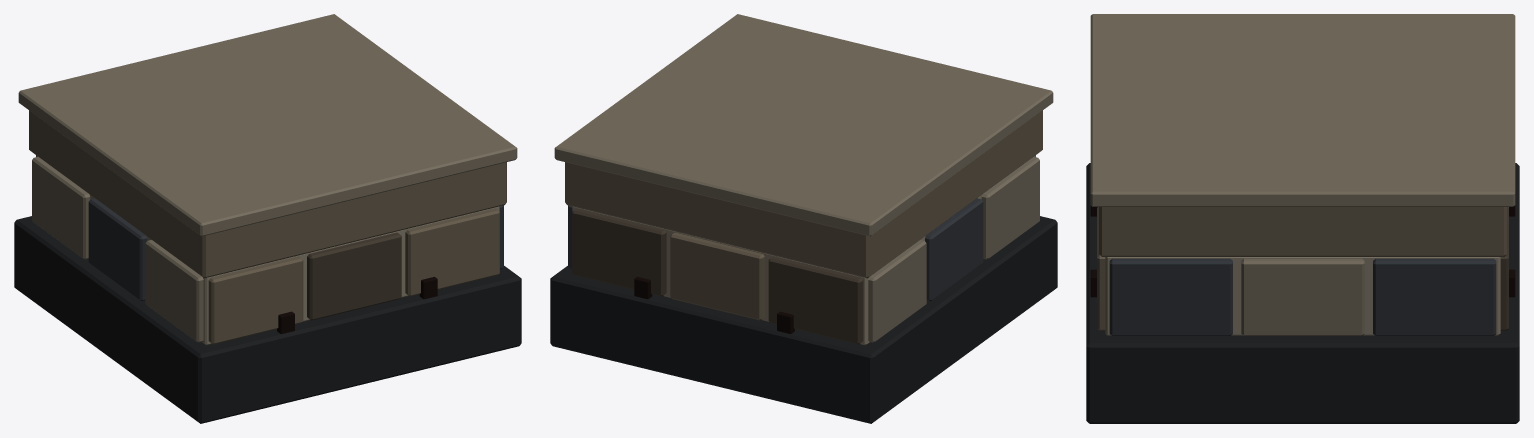
File: mod_stepped_plinth_base.glb
3 views of the same model, side by side, from view 1: azimuth 30°, elevation 25°; view 2: azimuth 150°, elevation 25°; view 3: azimuth 270°, elevation 25° (orthographic). The views are drawn at different scales.
Visible parts, largest first — view 1: Mod_Stepped_Plinth_Base; view 2: Mod_Stepped_Plinth_Base; view 3: Mod_Stepped_Plinth_Base.
Part boxes in pixels (box(x1,y1,x2,y2)): Mod_Stepped_Plinth_Base: box(14, 14, 521, 423); Mod_Stepped_Plinth_Base: box(550, 14, 1057, 423); Mod_Stepped_Plinth_Base: box(1086, 14, 1519, 423).
Bounding box in the file's own units: 2.04 × 1.2 × 2.04.
